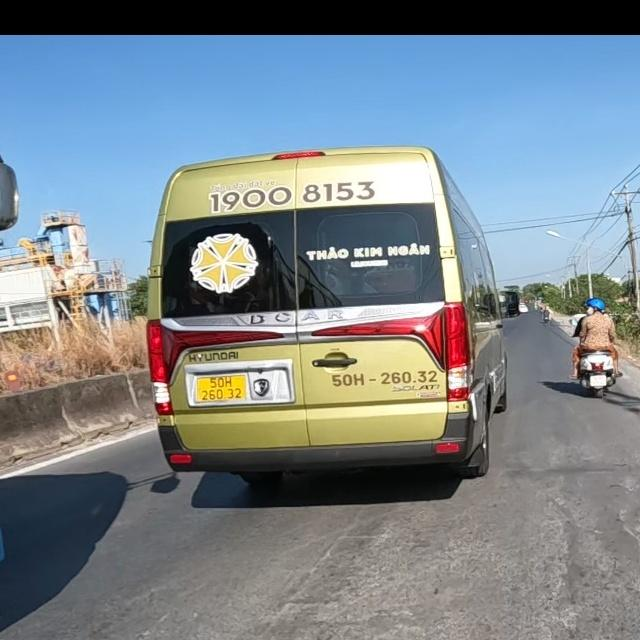license-plate: (194, 373, 248, 402)
